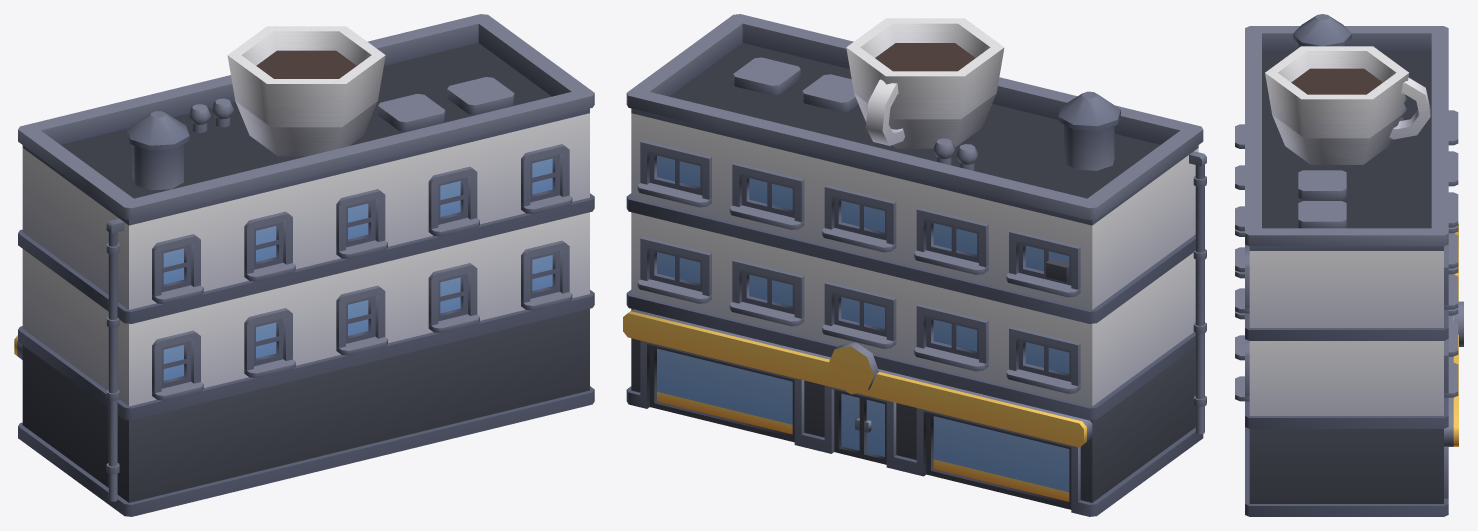
File: cafe.glb
3 views of the same model, side by side, from view 1: azimuth 30°, elevation 25°; view 2: azimuth 150°, elevation 25°; view 3: azimuth 270°, elevation 25° (orthographic). The views are drawn at different scales.
Visible parts, largest first — view 1: building-k, cup-coffee; view 2: building-k, cup-coffee; view 3: building-k, cup-coffee.
Boxes of the visible parts, x1,y1,x2,y2 form: building-k: [14, 14, 594, 516]; cup-coffee: [227, 26, 385, 156]; building-k: [623, 14, 1206, 516]; cup-coffee: [846, 18, 1004, 148]; building-k: [1235, 14, 1463, 516]; cup-coffee: [1265, 46, 1430, 164].
Bounding box in the file's own units: 4.38 × 3.22 × 1.98.
2 materials, 2 textured.
